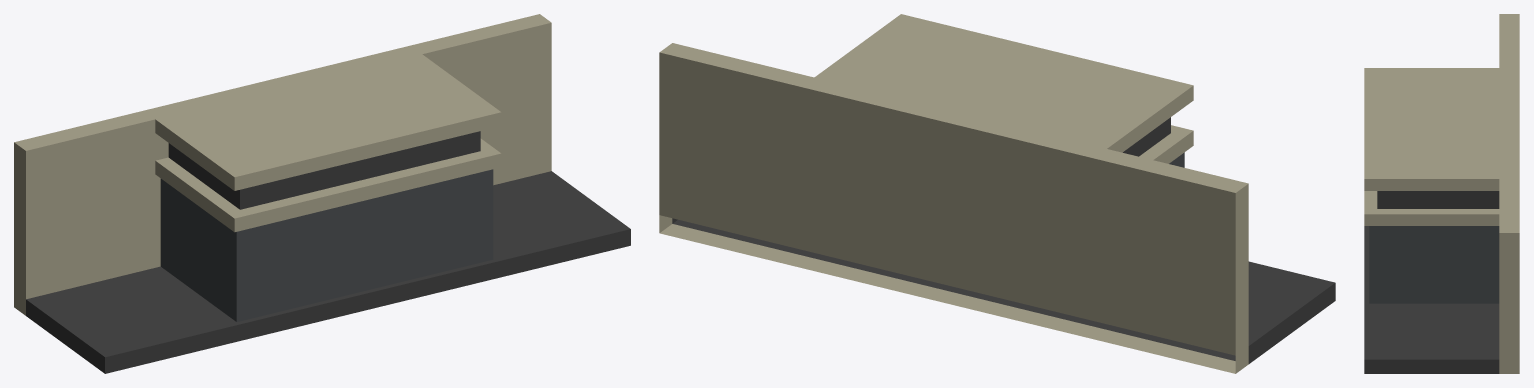
File: PS_BuildingFront.fbx
3 renders of one model, left to right at view 1: azimuth 30°, elevation 25°; view 2: azimuth 150°, elevation 25°; view 3: azimuth 270°, elevation 25°, orthographic. The views are drawn at different scales.
Visible parts, largest first — view 1: PS_BuildingFront; view 2: PS_BuildingFront; view 3: PS_BuildingFront.
Boxes of the visible parts, bbox=[...] form: PS_BuildingFront: bbox=[14, 14, 630, 373]; PS_BuildingFront: bbox=[659, 14, 1335, 373]; PS_BuildingFront: bbox=[1364, 14, 1519, 373].
Size of the model in its own units: 10 by 3 by 3.
